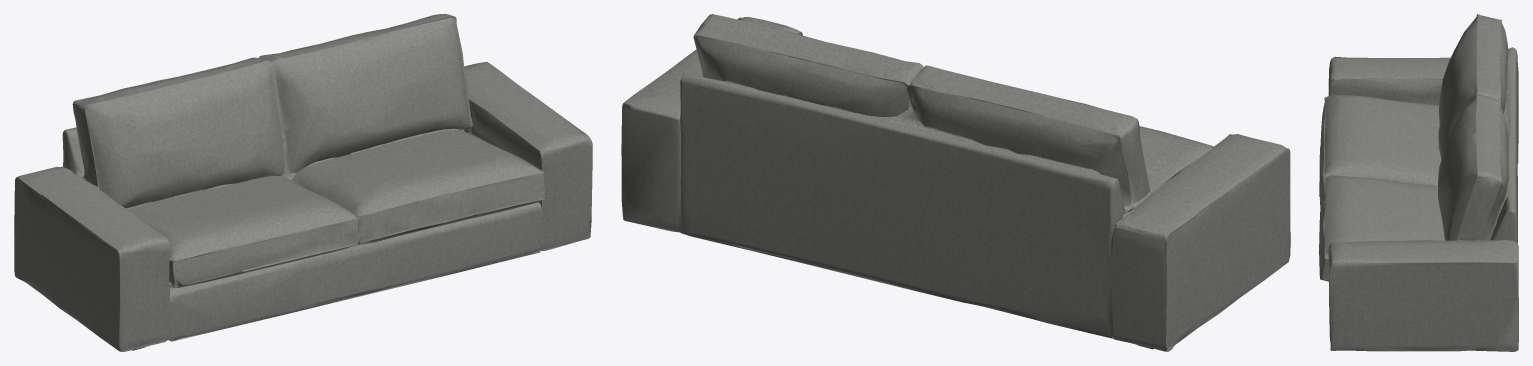
The model's file is sofa_kivik_69440596.glb.
3 views of the same model, side by side, from view 1: azimuth 30°, elevation 25°; view 2: azimuth 150°, elevation 25°; view 3: azimuth 270°, elevation 25° (orthographic). The views are drawn at different scales.
Parts seen in each view (by area): view 1: ProcessedMeshNode; view 2: ProcessedMeshNode; view 3: ProcessedMeshNode.
Part boxes in pixels (x1,y1,x2,y2): ProcessedMeshNode: (14, 14, 592, 351); ProcessedMeshNode: (621, 14, 1290, 351); ProcessedMeshNode: (1319, 14, 1518, 351).
Size of the model in its own units: 2.29 by 0.8451 by 0.9447.
1 material, 1 textured.
